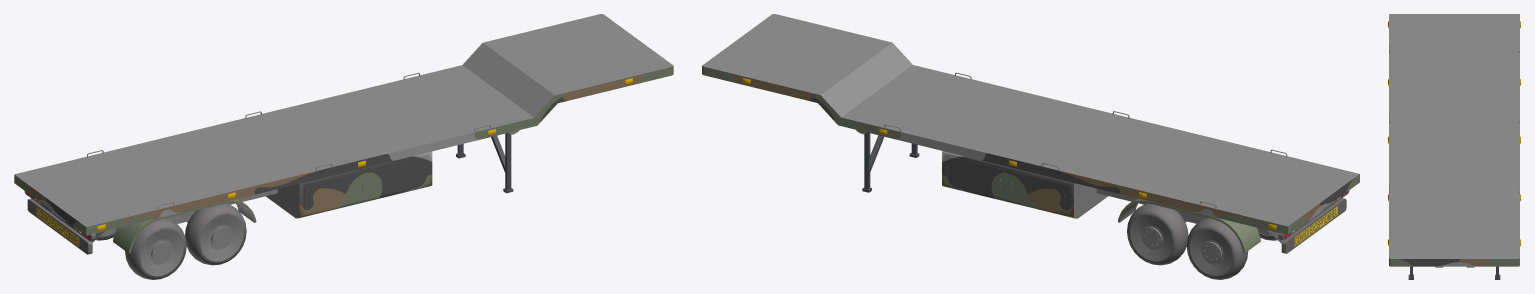
The model's file is Remorque_Mobile.glb.
3 views of the same model, side by side, from view 1: azimuth 30°, elevation 25°; view 2: azimuth 150°, elevation 25°; view 3: azimuth 270°, elevation 25° (orthographic). The views are drawn at different scales.
Visible parts, largest first — view 1: remorque; view 2: remorque; view 3: remorque.
Boxes of the visible parts, x1,y1,x2,y2 form: remorque: [14, 14, 673, 279]; remorque: [702, 14, 1359, 279]; remorque: [1388, 14, 1520, 279].
Size of the model in its own units: 12.03 by 1.89 by 2.59.
